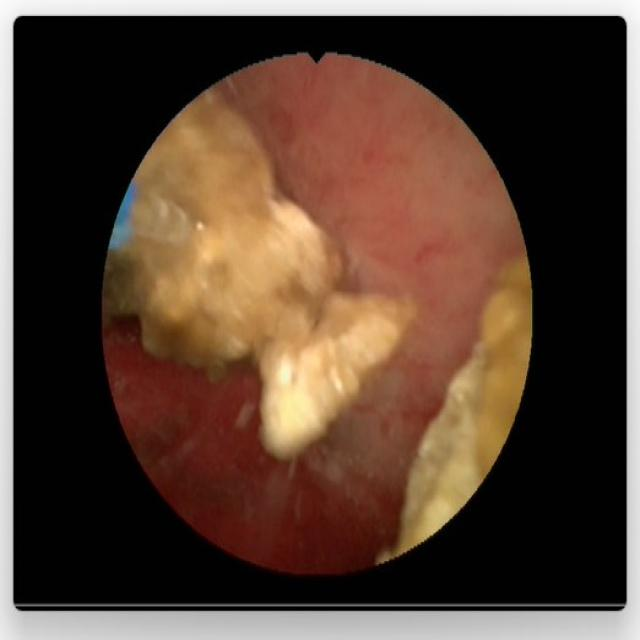stone: (108, 103, 408, 455), (401, 262, 527, 545)
